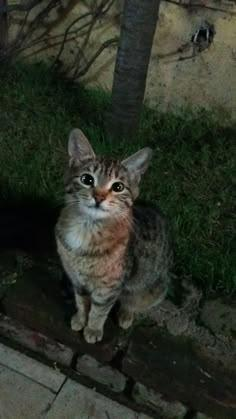kedo: (56, 129, 171, 342)
